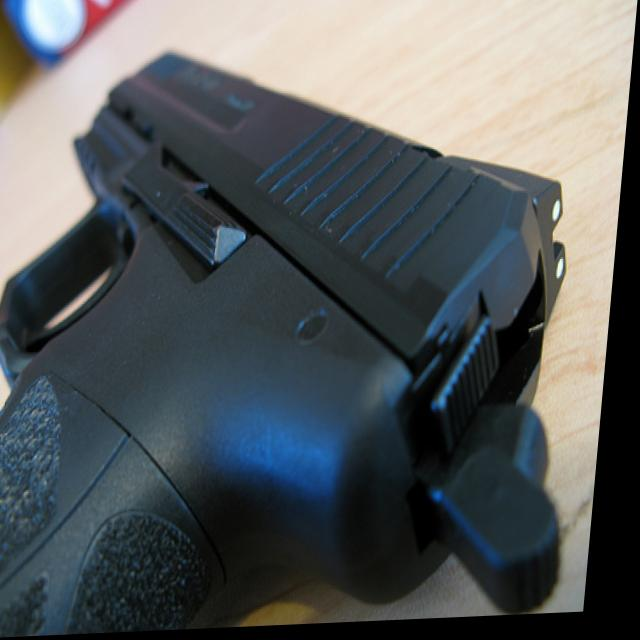handgun: (0, 32, 608, 625)
